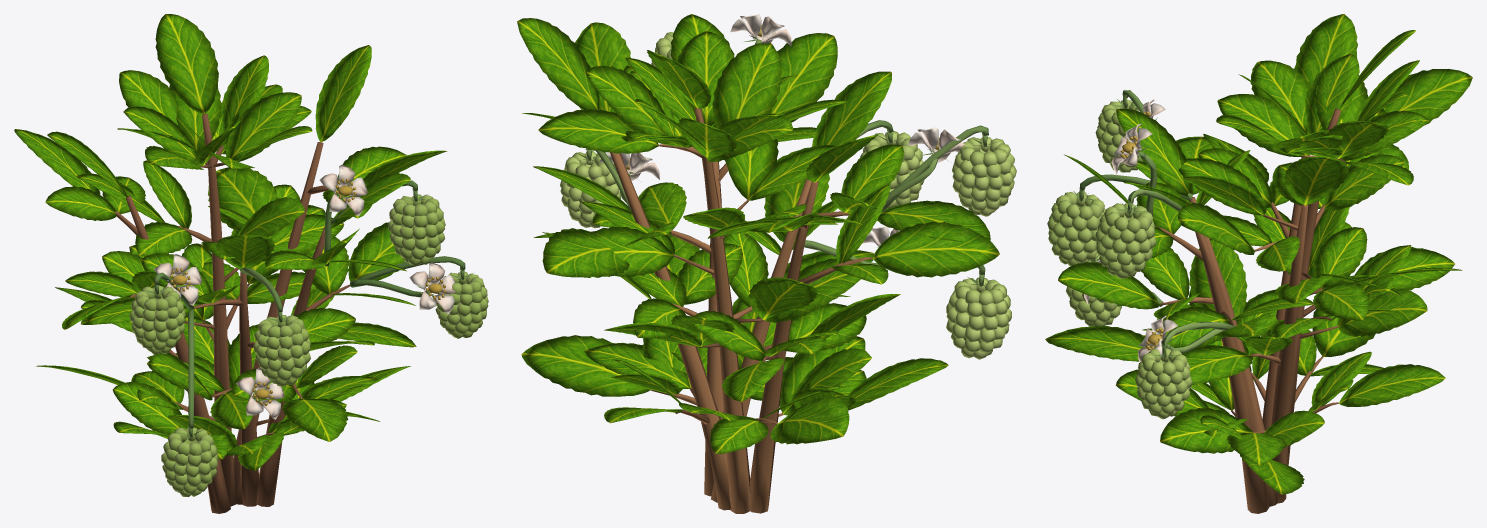
Rendered from NP_Raspberry_Flowering.fbx.
The picture shows the model from 3 angles, left to right: view 1: azimuth 30°, elevation 25°; view 2: azimuth 150°, elevation 25°; view 3: azimuth 270°, elevation 25°; orthographic projection. The views are drawn at different scales.
Visible parts, largest first — view 1: NP_Raspberry_Flowering; view 2: NP_Raspberry_Flowering; view 3: NP_Raspberry_Flowering.
Part boxes in pixels (bbox=[...]): NP_Raspberry_Flowering: bbox=[14, 14, 488, 513]; NP_Raspberry_Flowering: bbox=[517, 14, 1016, 513]; NP_Raspberry_Flowering: bbox=[1045, 14, 1472, 513].
Size of the model in its own units: 76.05 by 80.53 by 66.91.
